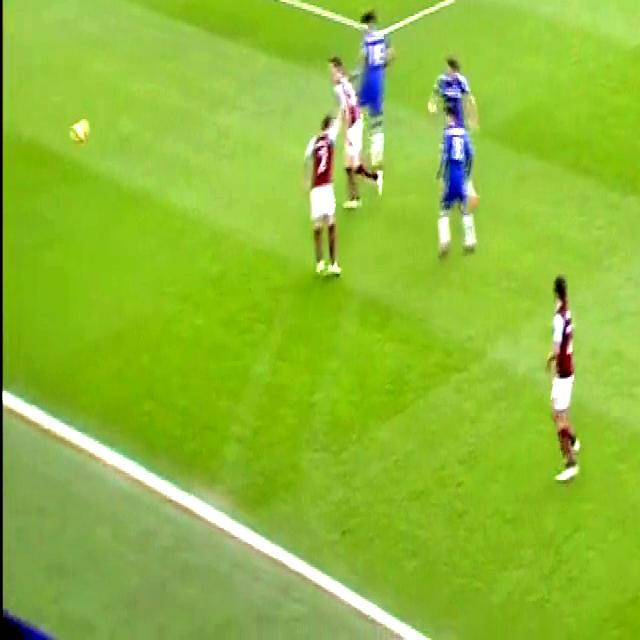ball: (70, 107, 96, 153)
soccer-player: (536, 256, 588, 494), (347, 0, 400, 183), (297, 106, 347, 296), (431, 96, 484, 271), (327, 56, 366, 220)
